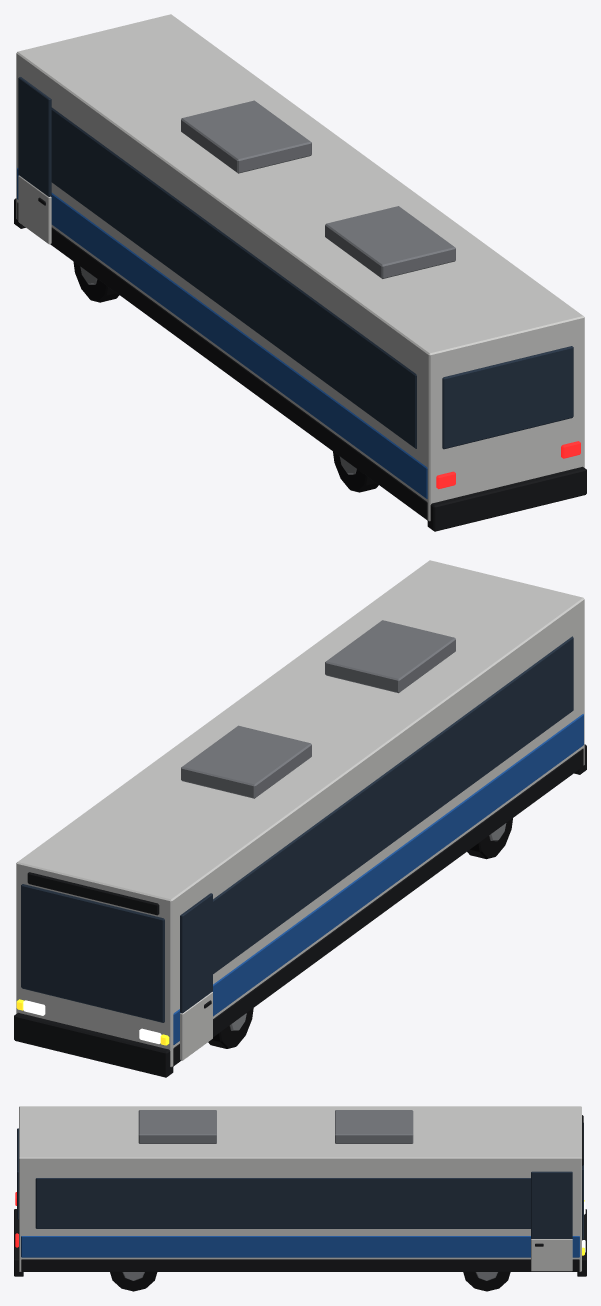
The model's file is car_bus.glb.
The picture shows the model from 3 angles, top to bottom: view 1: azimuth 30°, elevation 25°; view 2: azimuth 150°, elevation 25°; view 3: azimuth 270°, elevation 25°; orthographic projection. The views are drawn at different scales.
Visible parts, largest first — view 1: car_body, car_door_FL; view 2: car_body, car_door_FL; view 3: car_body, car_door_FR.
Boxes of the visible parts, x1=… form: car_body: x1=14, y1=14, x2=586, y2=531; car_door_FL: x1=18, y1=77, x2=51, y2=244; car_body: x1=14, y1=560, x2=586, y2=1077; car_door_FL: x1=180, y1=893, x2=212, y2=1060; car_body: x1=14, y1=1106, x2=586, y2=1291; car_door_FR: x1=531, y1=1171, x2=572, y2=1271.
Size of the model in its own units: 2.68 by 3.27 by 11.68.
